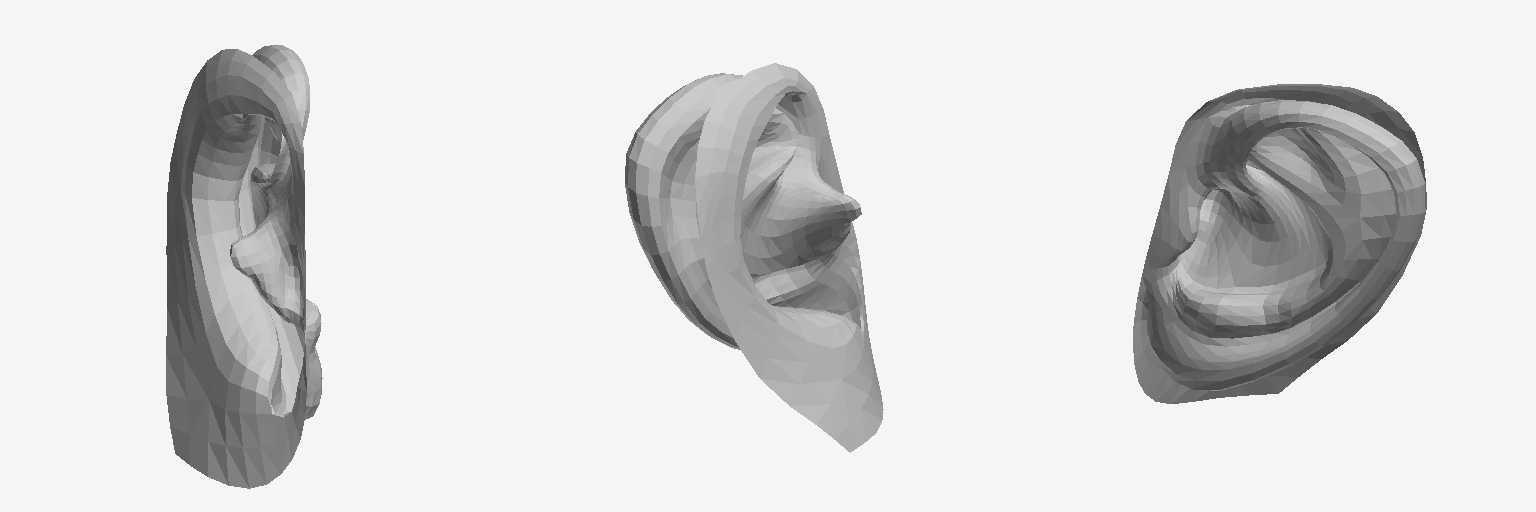
File: ear1.obj
3 views of the same model, side by side, from view 1: azimuth 30°, elevation 25°; view 2: azimuth 150°, elevation 25°; view 3: azimuth 270°, elevation 25° (orthographic).
Parts seen in each view (by area): view 1: ear; view 2: ear; view 3: ear.
Part boxes in pixels (bbox=[...]): ear: bbox=[166, 45, 322, 488]; ear: bbox=[625, 63, 883, 452]; ear: bbox=[1133, 84, 1426, 403].
Size of the model in its own units: 3.24 by 6.86 by 5.07.